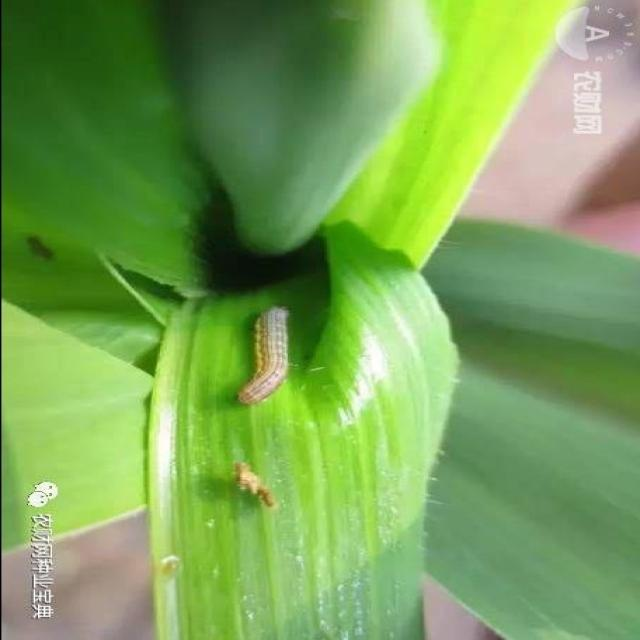army worm: (226, 301, 292, 413), (229, 461, 285, 511)
